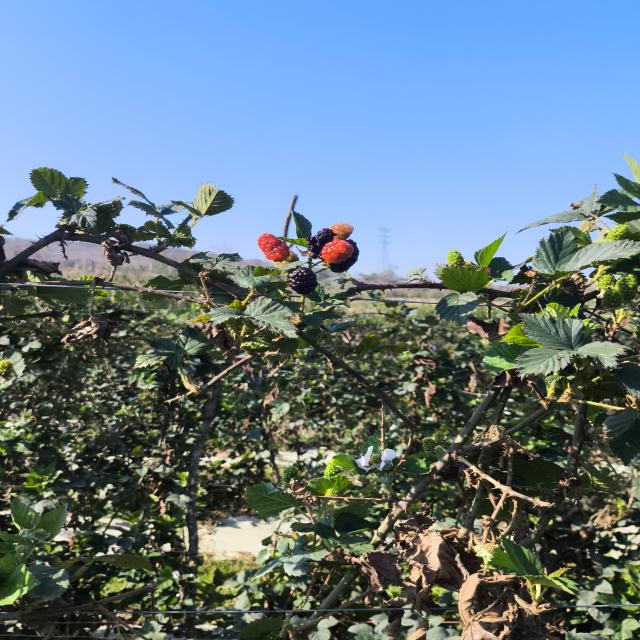maduro: (287, 267, 318, 294)
naranja: (258, 233, 290, 261), (320, 239, 354, 264), (329, 223, 354, 240)
